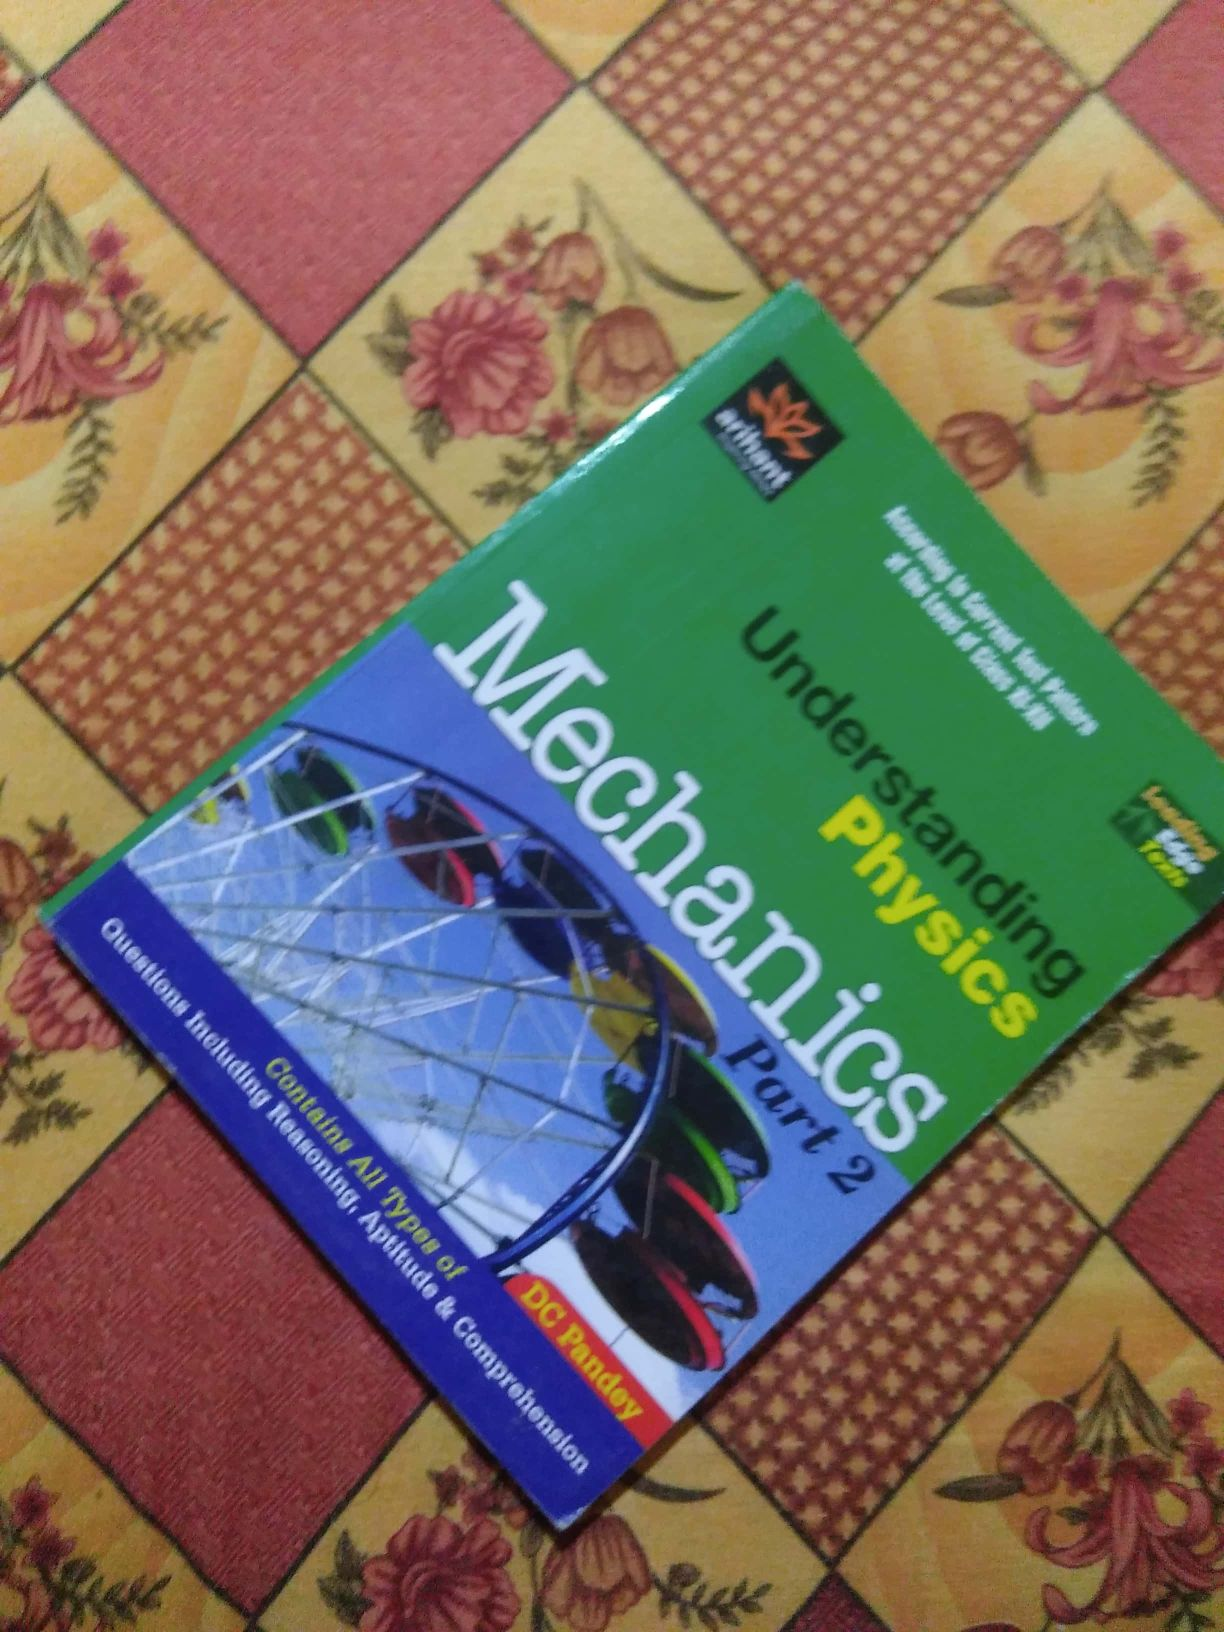mechanics: (15, 271, 1214, 1471)
